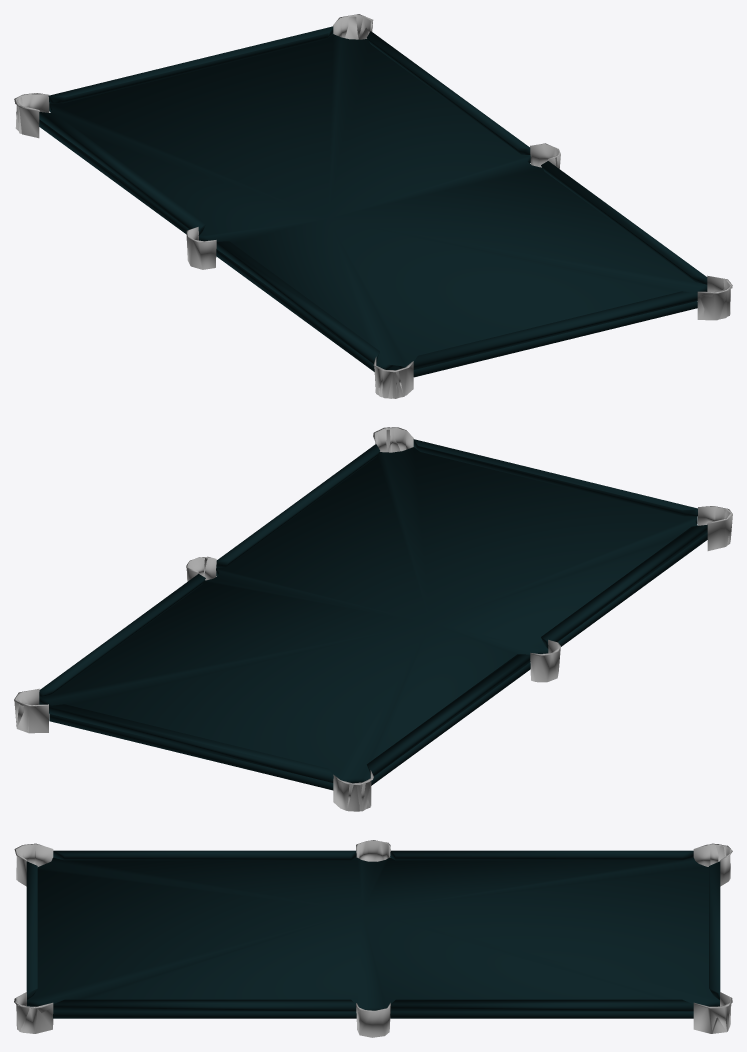
The model's file is PoolTopSmall.obj.
3 renders of one model, top to bottom at view 1: azimuth 30°, elevation 25°; view 2: azimuth 150°, elevation 25°; view 3: azimuth 270°, elevation 25°, orthographic. The views are drawn at different scales.
Visible parts, largest first — view 1: Bed_Cube.002, Cushion_Cube.003, Caushion2_Cube.004, CornerPockets_Cylinder.001, SidePockets_Cylinder.004; view 2: Bed_Cube.002, Cushion_Cube.003, Caushion2_Cube.004, CornerPockets_Cylinder.001, SidePockets_Cylinder.004; view 3: Bed_Cube.002, Cushion_Cube.003, CornerPockets_Cylinder.001, Caushion2_Cube.004, SidePockets_Cylinder.004.
Boxes of the visible parts, x1,y1,x2,y2 form: Bed_Cube.002: [39, 34, 707, 377]; Cushion_Cube.003: [39, 31, 707, 363]; Caushion2_Cube.004: [48, 26, 697, 369]; CornerPockets_Cylinder.001: [14, 14, 732, 398]; SidePockets_Cylinder.004: [186, 143, 560, 269]; Bed_Cube.002: [39, 447, 707, 790]; Cushion_Cube.003: [39, 444, 707, 776]; Caushion2_Cube.004: [49, 439, 697, 782]; CornerPockets_Cylinder.001: [14, 427, 732, 811]; SidePockets_Cylinder.004: [186, 556, 560, 682]; Bed_Cube.002: [27, 857, 719, 1018]; Cushion_Cube.003: [53, 850, 693, 1011]; CornerPockets_Cylinder.001: [14, 843, 732, 1033]; Caushion2_Cube.004: [26, 861, 720, 999]; SidePockets_Cylinder.004: [356, 840, 390, 1037].
Bounding box in the file's own units: 1.3 × 0.0959 × 2.3.
